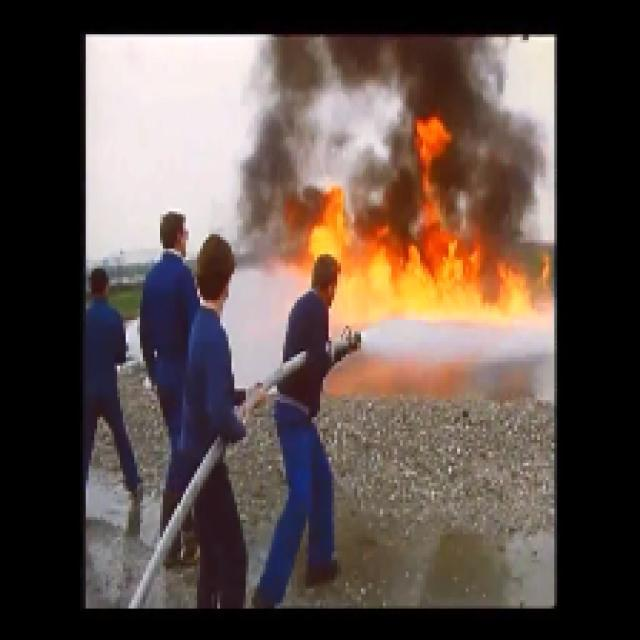Fire: (311, 215, 526, 320)
Smoke: (264, 39, 312, 201), (475, 123, 537, 209), (396, 46, 466, 110)
